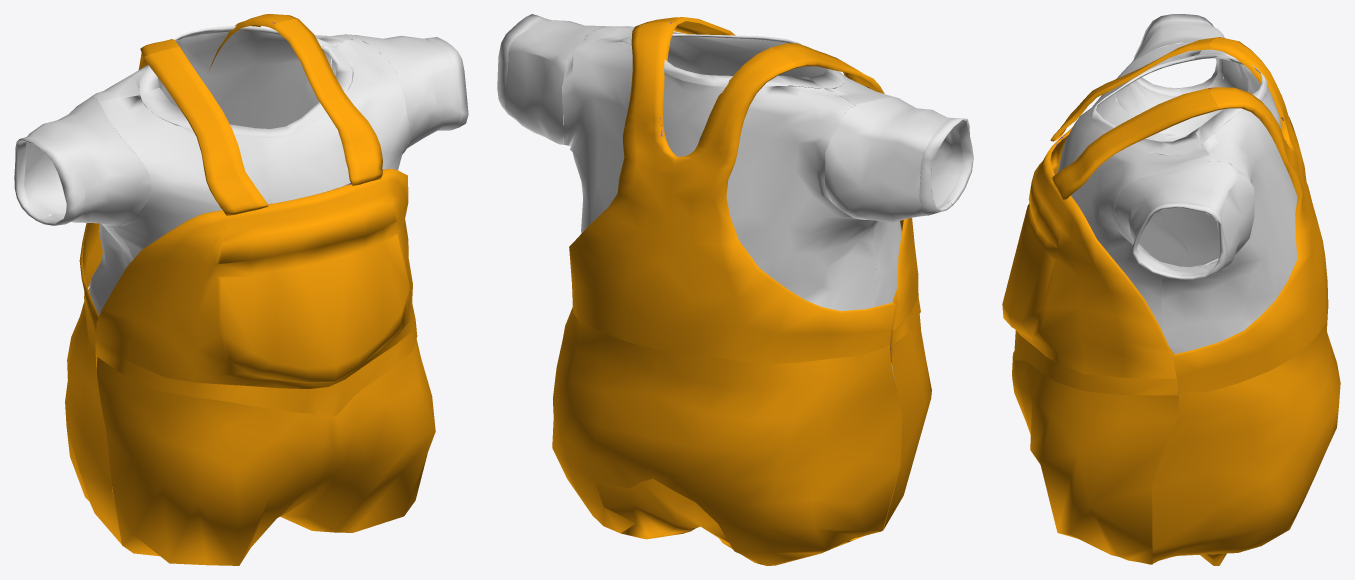
The model's file is Overalls-Orange.glb.
3 renders of one model, left to right at view 1: azimuth 30°, elevation 25°; view 2: azimuth 150°, elevation 25°; view 3: azimuth 270°, elevation 25°, orthographic. The views are drawn at different scales.
Visible parts, largest first — view 1: Overalls-Orange; view 2: Overalls-Orange; view 3: Overalls-Orange.
Part boxes in pixels (x1,y1,x2,y2): Overalls-Orange: [14, 14, 468, 565]; Overalls-Orange: [497, 14, 973, 565]; Overalls-Orange: [1002, 14, 1340, 565].
Bounding box in the file's own units: 0.5156 × 0.5787 × 0.3822.
Materials: 3 (2 with a texture image).
